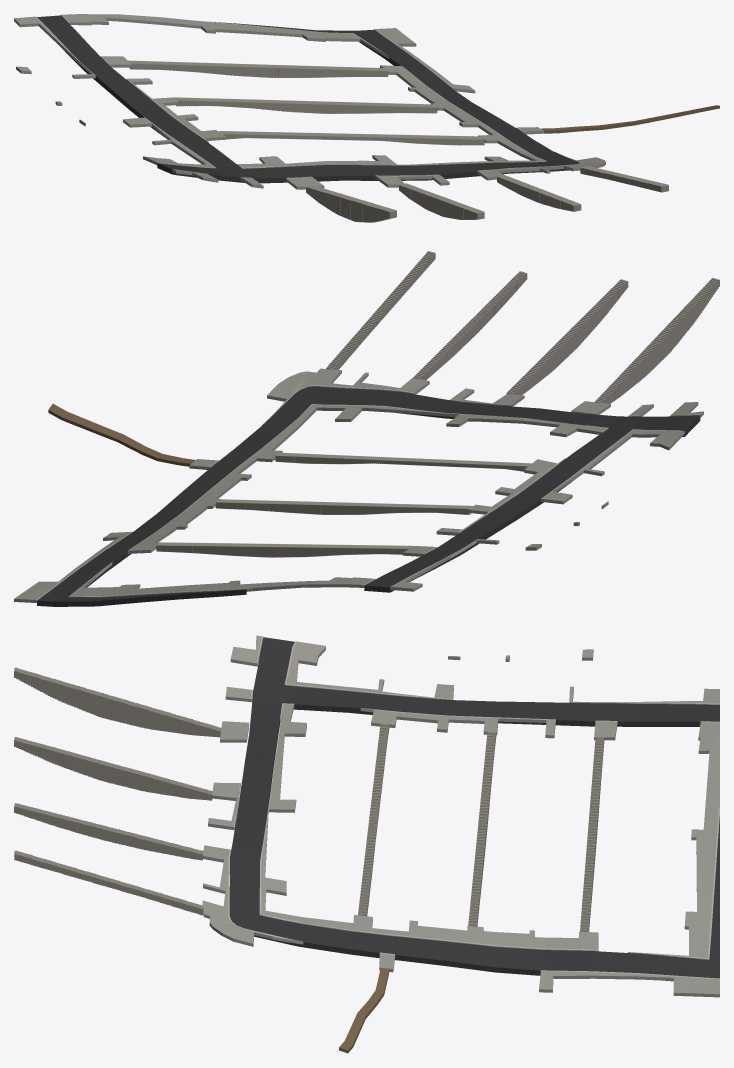
The picture shows the model from 3 angles, top to bottom: view 1: azimuth 30°, elevation 25°; view 2: azimuth 150°, elevation 25°; view 3: azimuth 270°, elevation 25°; orthographic projection. The views are drawn at different scales.
Bounding box in the file's own units: 147 × 35.16 × 146.
